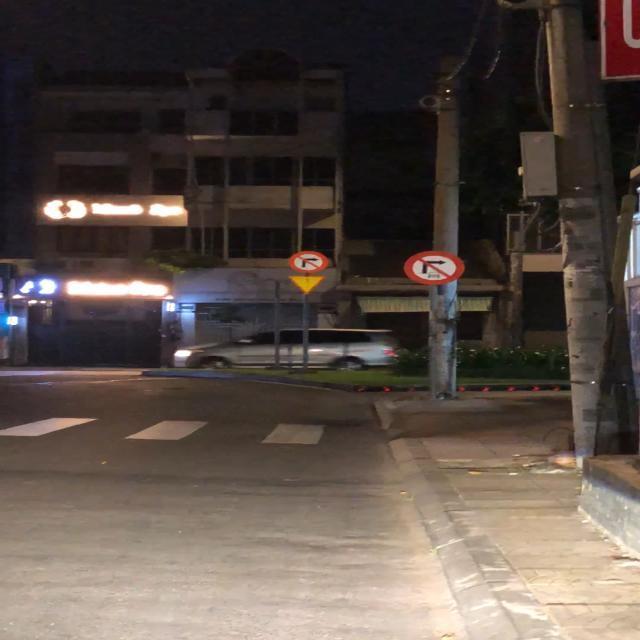Bien bao cam re phai: (287, 249, 329, 274)
Bien bao cam xe o to re phai: (403, 249, 468, 286)
Bien bao giao nhau voi duong uu tien: (284, 274, 329, 296)
